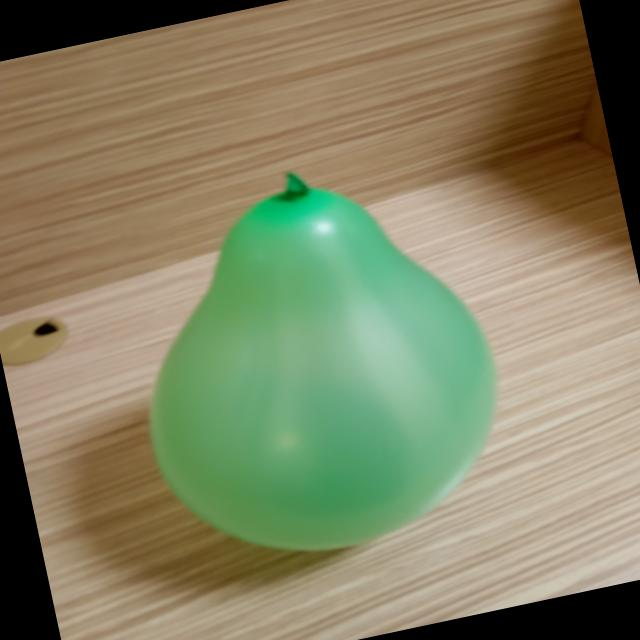balloon: (149, 174, 496, 550)
